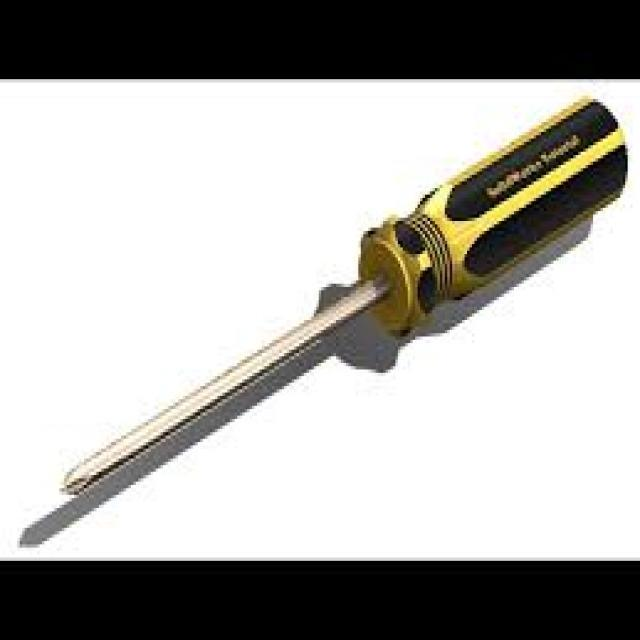screwdriver: (55, 96, 632, 502)
